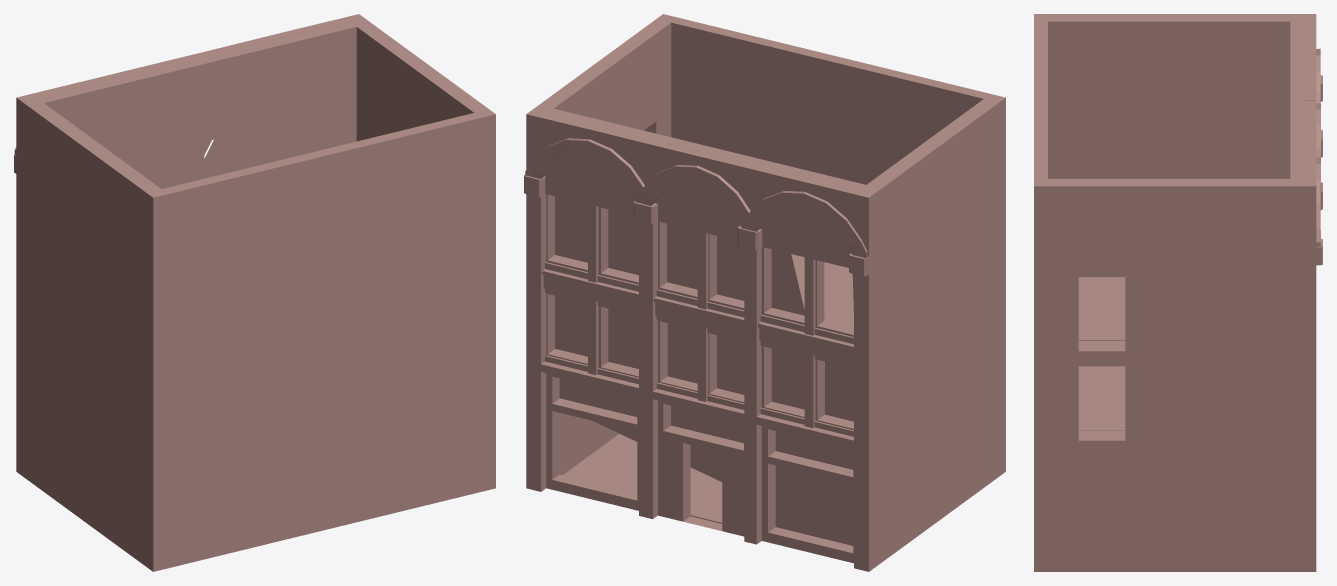
File: Building.fbx
3 renders of one model, left to right at view 1: azimuth 30°, elevation 25°; view 2: azimuth 150°, elevation 25°; view 3: azimuth 270°, elevation 25°, orthographic. The views are drawn at different scales.
Parts seen in each view (by area): view 1: polySurface9; view 2: polySurface9; view 3: polySurface9.
Part boxes in pixels (box(x1,y1,x2,y2)): polySurface9: box(14, 14, 495, 571); polySurface9: box(524, 14, 1005, 571); polySurface9: box(1034, 14, 1322, 571).
Size of the model in its own units: 8.75 by 9.13 by 6.2.
